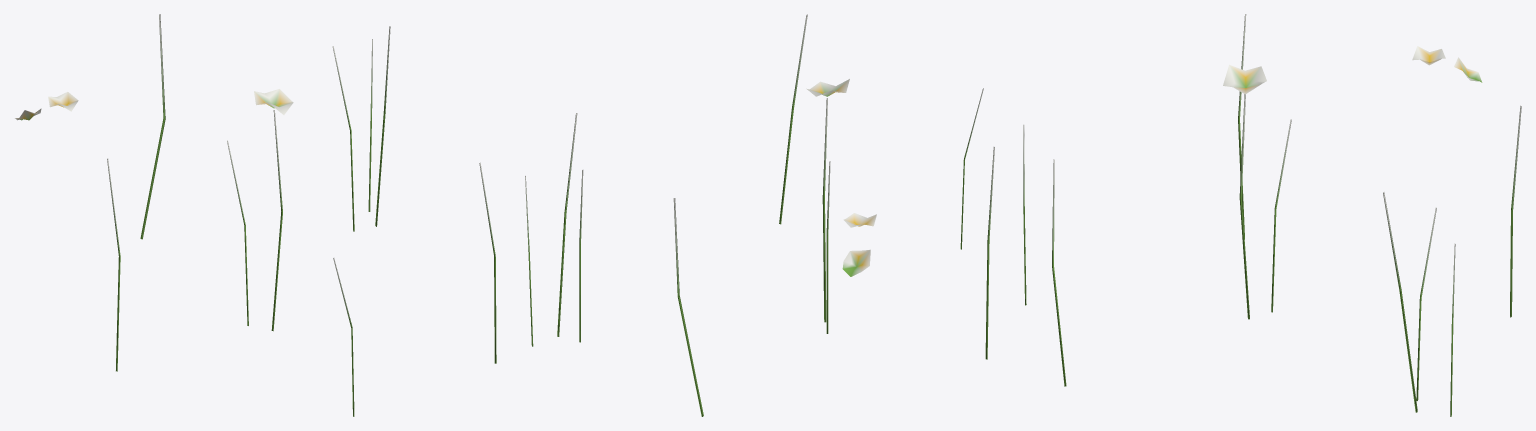
The model's file is margarida_bq_lo.glb.
3 renders of one model, left to right at view 1: azimuth 30°, elevation 25°; view 2: azimuth 150°, elevation 25°; view 3: azimuth 270°, elevation 25°, orthographic. The views are drawn at different scales.
Visible parts, largest first — view 1: margarida_bq_lo; view 2: margarida_bq_lo; view 3: margarida_bq_lo.
Part boxes in pixels (box(x1,y1,x2,y2)): margarida_bq_lo: box(15, 14, 496, 416); margarida_bq_lo: box(525, 14, 994, 416); margarida_bq_lo: box(1023, 14, 1521, 416).
Bounding box in the file's own units: 15.98 × 9.98 × 18.22.
Materials: 1 (1 with a texture image).
